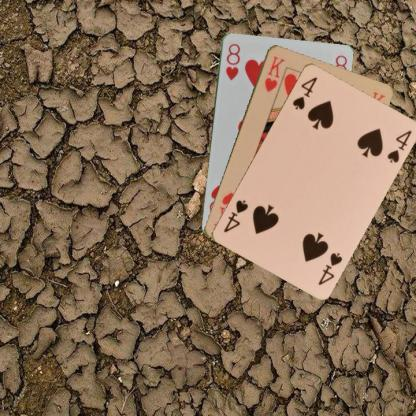4s: (315, 249, 344, 286), (289, 74, 318, 110)
8h: (222, 40, 241, 81)
Kh: (262, 53, 286, 93)
